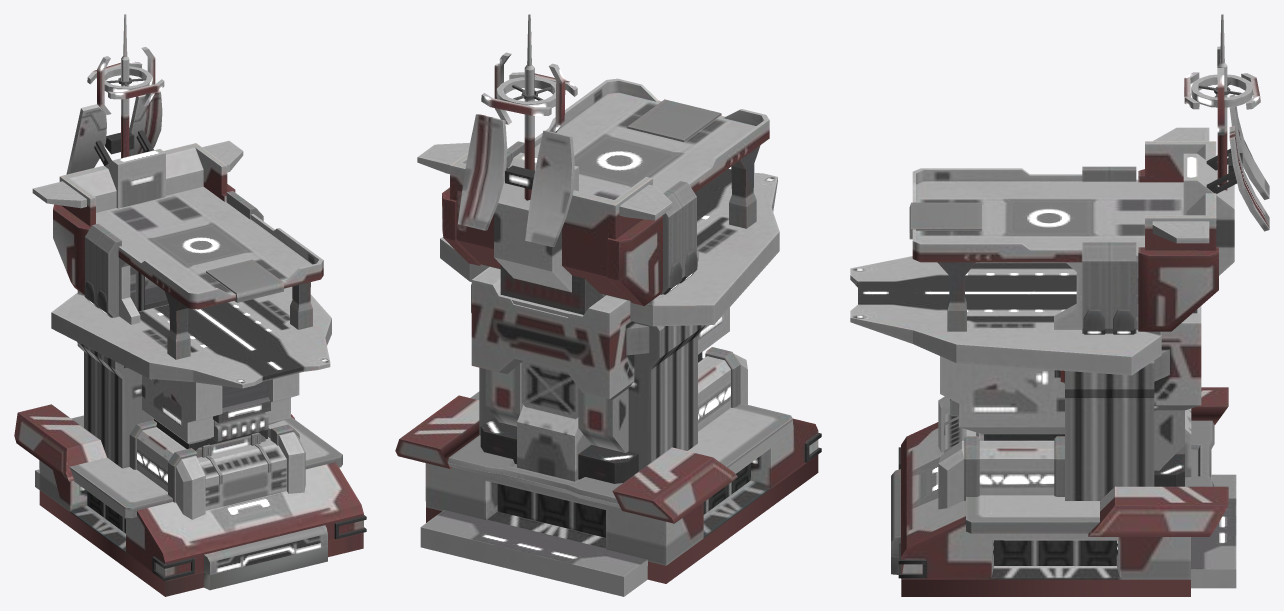
The picture shows the model from 3 angles, left to right: view 1: azimuth 30°, elevation 25°; view 2: azimuth 150°, elevation 25°; view 3: azimuth 270°, elevation 25°; orthographic projection. The views are drawn at different scales.
Parts seen in each view (by area): view 1: battle-base; view 2: battle-base; view 3: battle-base.
Part boxes in pixels (<box>): battle-base: <box>14,14,366,596</box>; battle-base: <box>395,14,821,596</box>; battle-base: <box>850,14,1269,596</box>.
Bounding box in the file's own units: 7.12 × 13.59 × 9.81.
Materials: 1 (1 with a texture image).
